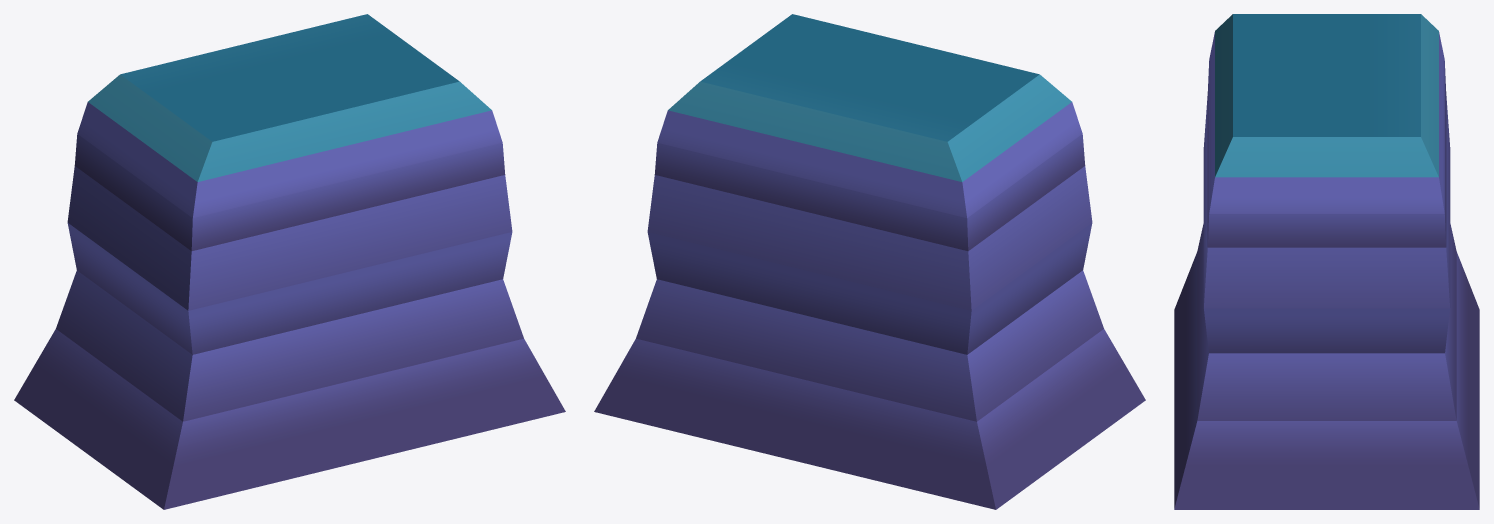
The model's file is StoneWall028.fbx.
3 views of the same model, side by side, from view 1: azimuth 30°, elevation 25°; view 2: azimuth 150°, elevation 25°; view 3: azimuth 270°, elevation 25° (orthographic).
Visible parts, largest first — view 1: StoneWall028; view 2: StoneWall028; view 3: StoneWall028.
Part boxes in pixels (x1,y1,x2,y2): StoneWall028: [14, 14, 565, 509]; StoneWall028: [594, 14, 1145, 509]; StoneWall028: [1174, 14, 1479, 509].
Size of the model in its own units: 537 by 418 by 347.
